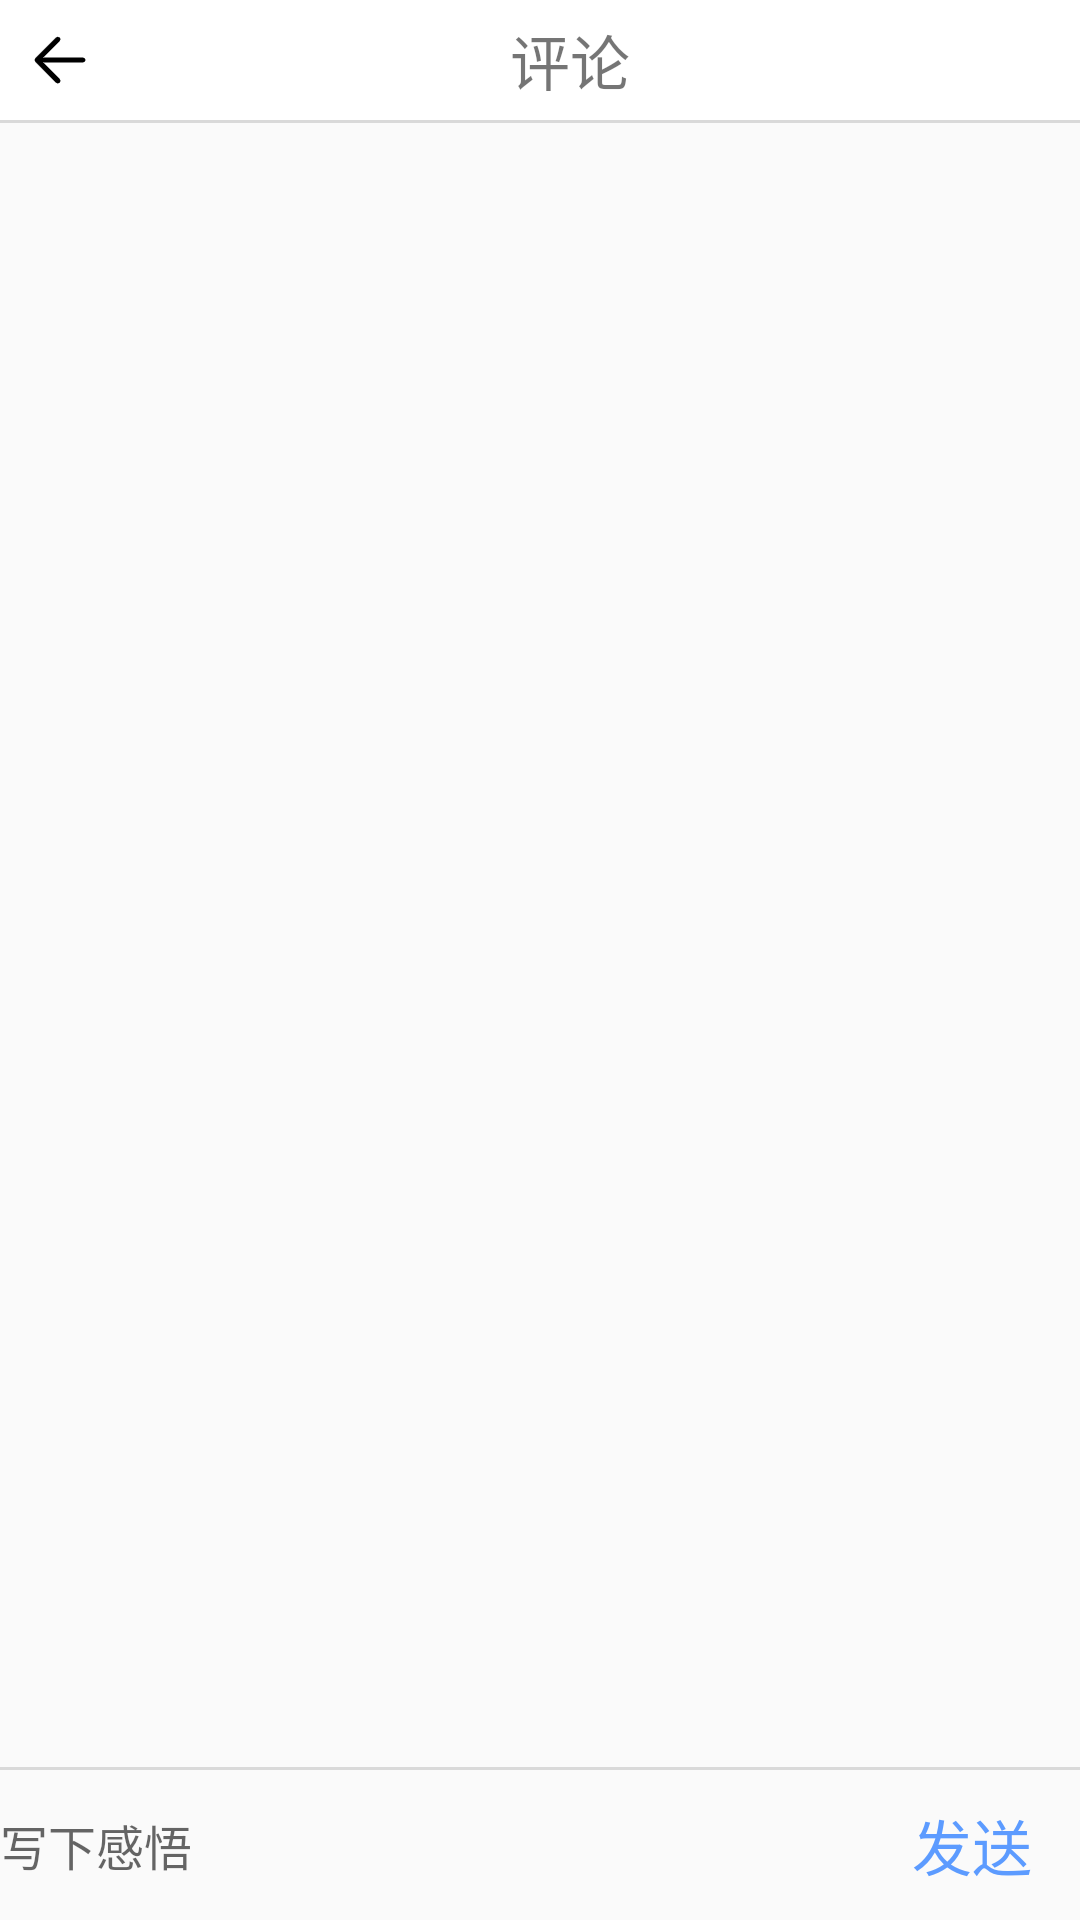

Screen size 1080*1920. Icon name, then its center in pixels as (x=x, y=y):
back: (x=60, y=60)
